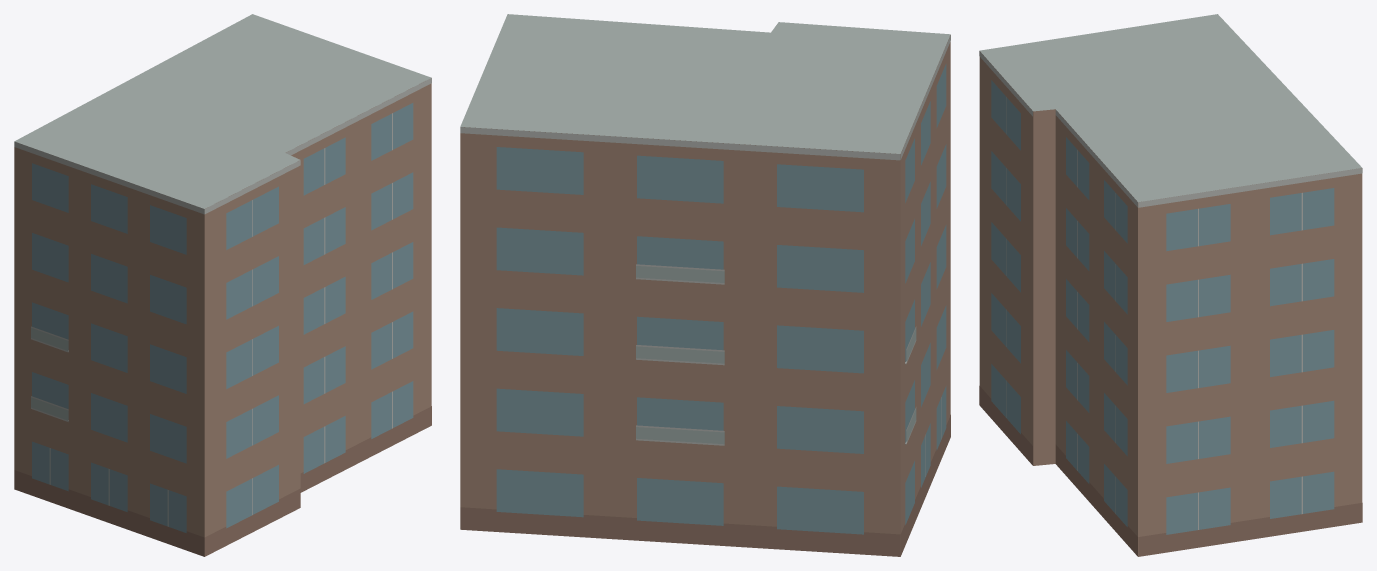
File: survey-upis-32865227.glb
The picture shows the model from 3 angles, left to right: view 1: azimuth 30°, elevation 25°; view 2: azimuth 150°, elevation 25°; view 3: azimuth 270°, elevation 25°; orthographic projection. The views are drawn at different scales.
Parts seen in each view (by area): view 1: survey-upis-32865227.tmp; view 2: survey-upis-32865227.tmp; view 3: survey-upis-32865227.tmp.
Part boxes in pixels (bbox=[...]): survey-upis-32865227.tmp: bbox=[14, 14, 431, 556]; survey-upis-32865227.tmp: bbox=[460, 14, 950, 556]; survey-upis-32865227.tmp: bbox=[979, 14, 1362, 556].
Size of the model in its own units: 17.54 by 15.4 by 15.08.
